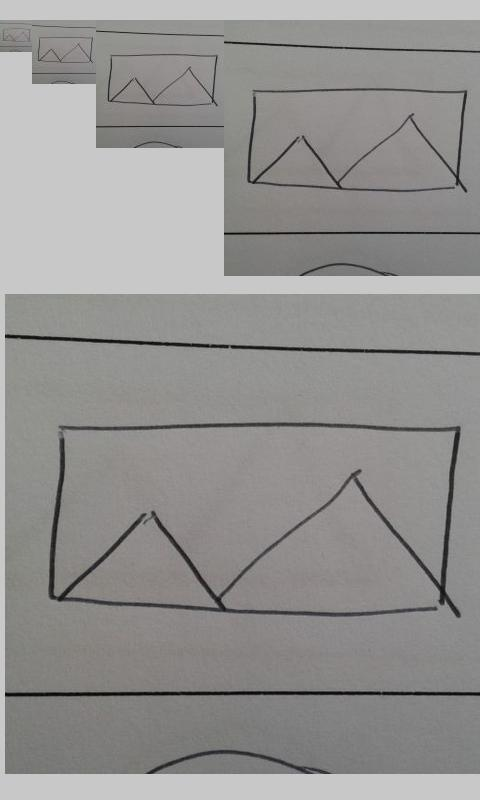image_view: (46, 419, 462, 619), (247, 86, 467, 195), (107, 53, 219, 107), (37, 36, 94, 64), (2, 27, 30, 43)
